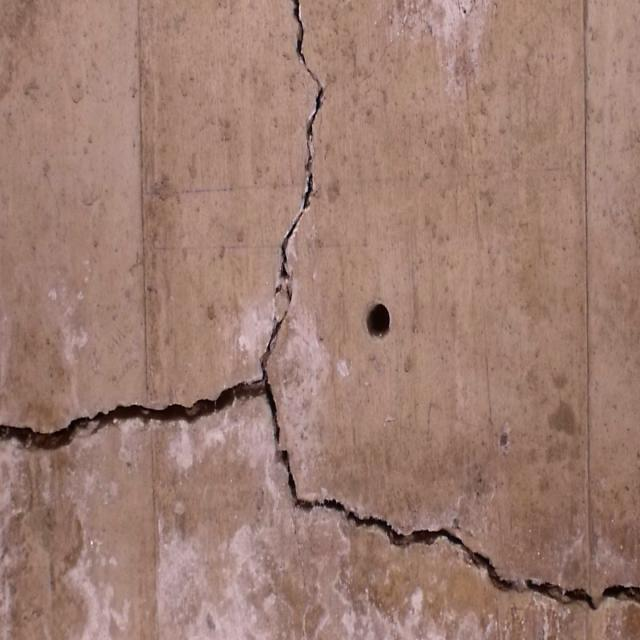Wall_Cracks: (2, 3, 636, 621)
